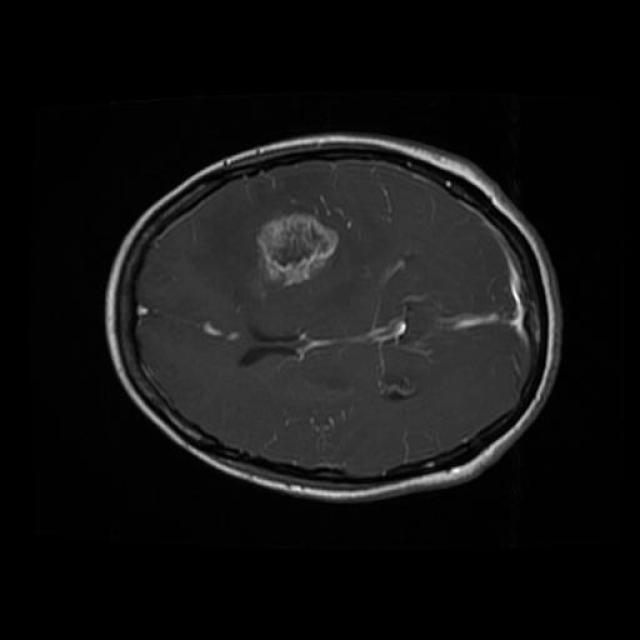Glioma: (256, 213, 339, 285)
